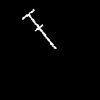double_crochet: (22, 9, 55, 48)
